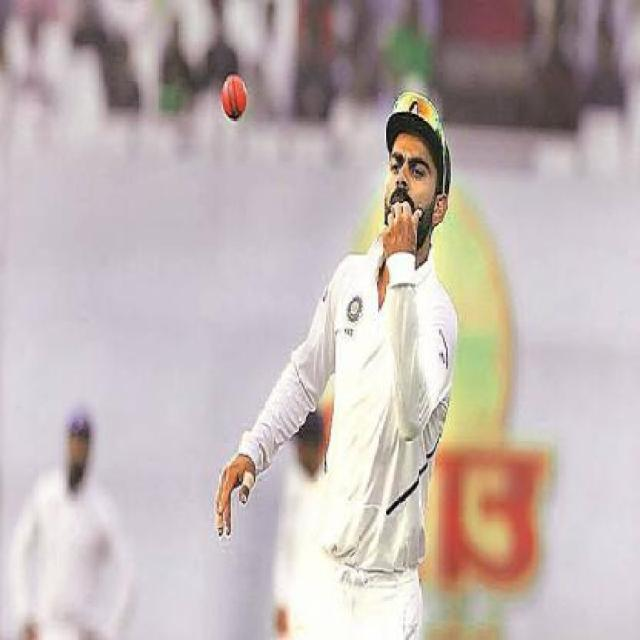ball: (206, 52, 266, 133)
